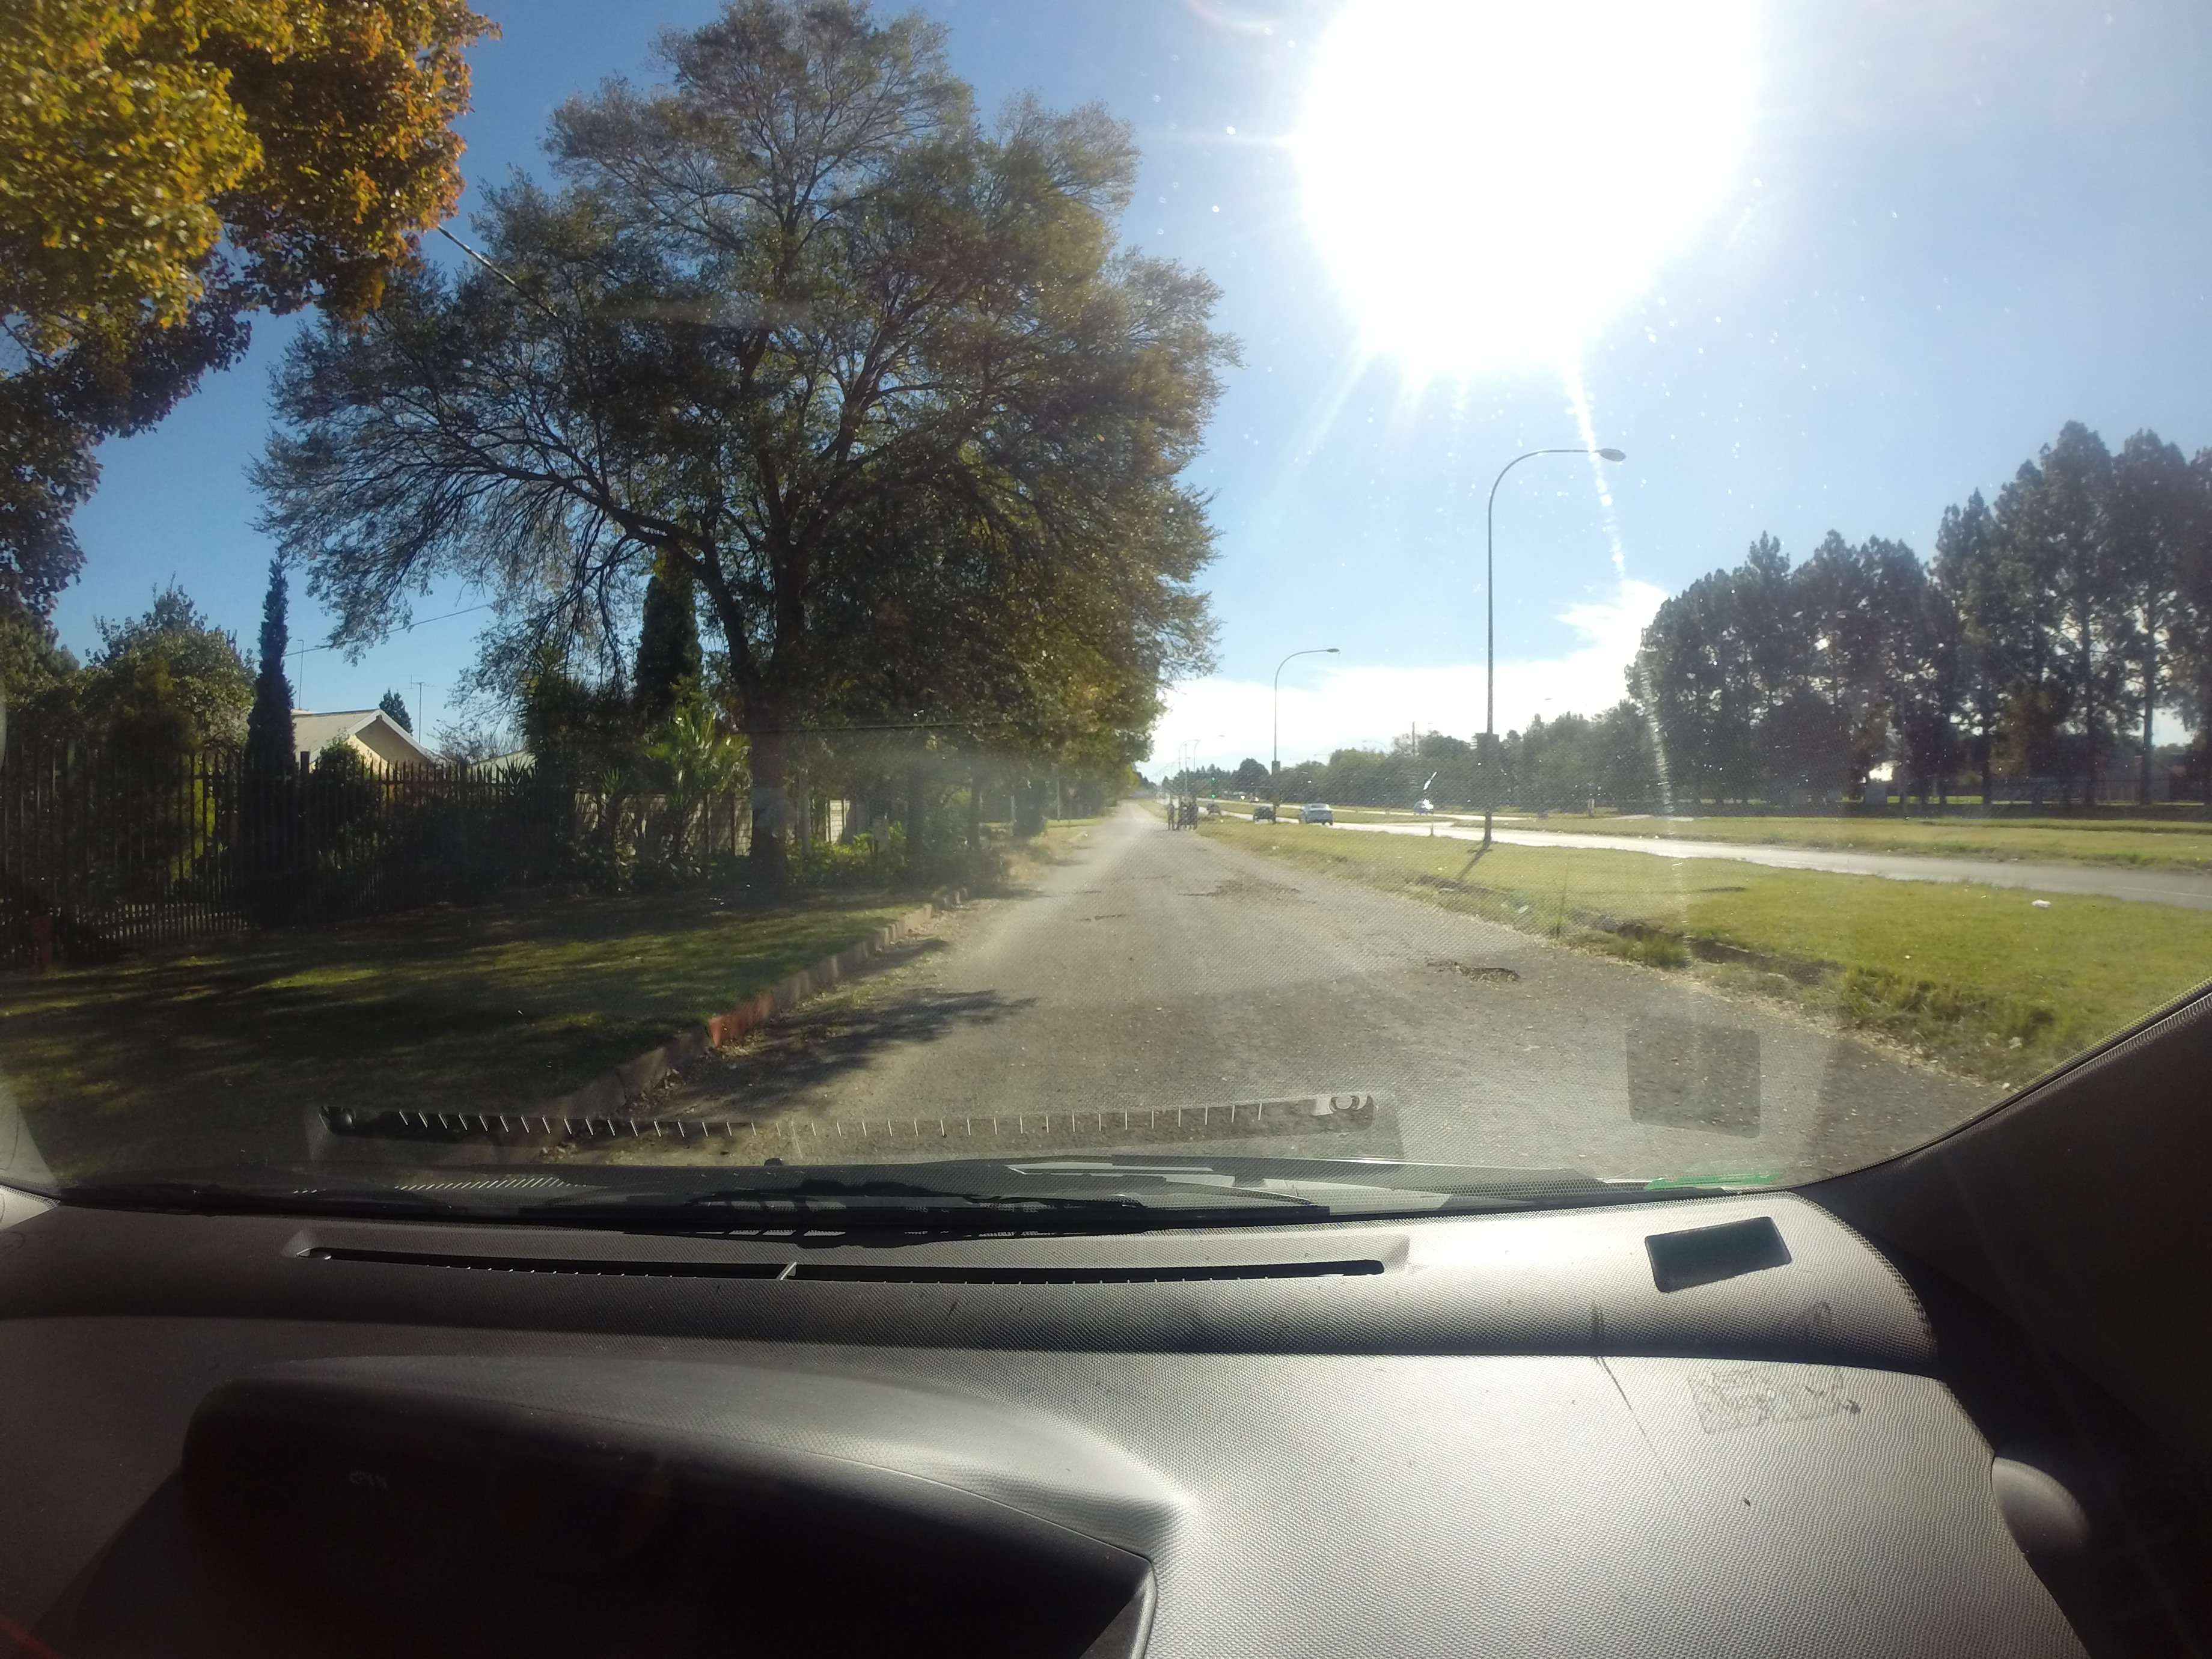pothole: (1383, 924, 1559, 1037), (1195, 875, 1331, 945)
